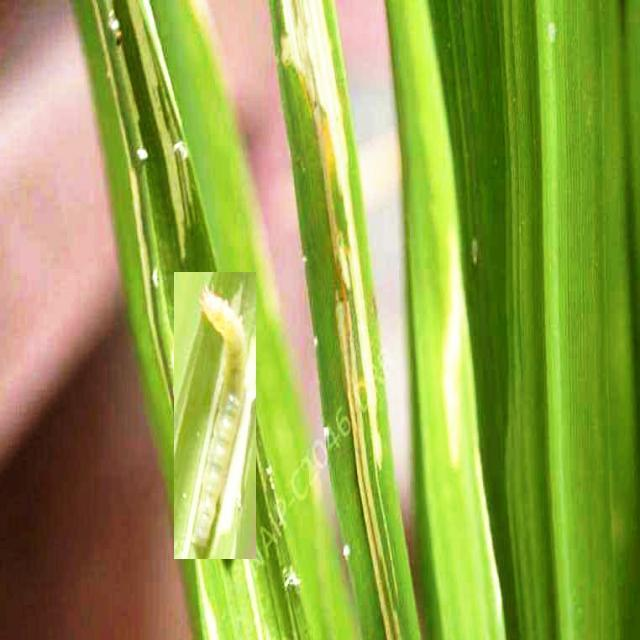leaf-folder: (174, 272, 256, 559)
